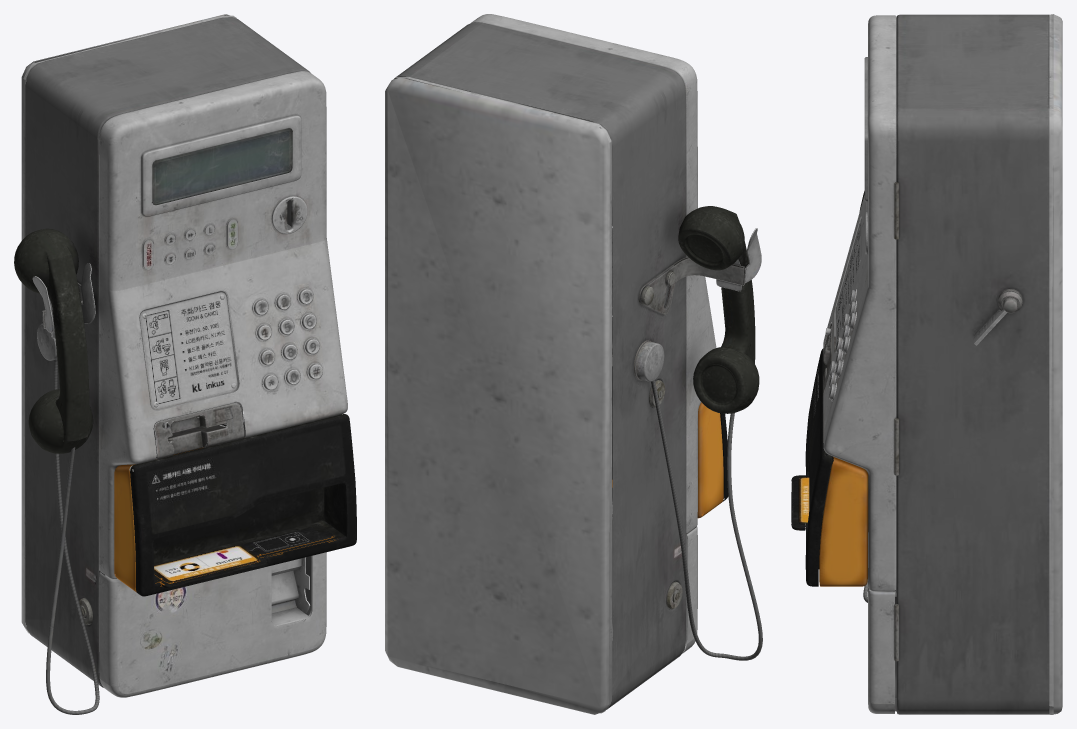
Rendered from korean_public_payphone_01.glb.
3 views of the same model, side by side, from view 1: azimuth 30°, elevation 25°; view 2: azimuth 150°, elevation 25°; view 3: azimuth 270°, elevation 25° (orthographic). The views are drawn at different scales.
Visible parts, largest first — view 1: korean_public_payphone_01; view 2: korean_public_payphone_01; view 3: korean_public_payphone_01.
Part boxes in pixels (x1,y1,x2,y2): korean_public_payphone_01: (14,14,356,714); korean_public_payphone_01: (385,14,762,714); korean_public_payphone_01: (791,14,1062,714).
Bounding box in the file's own units: 0.4006 × 0.7397 × 0.3012.
Materials: 1 (1 with a texture image).
